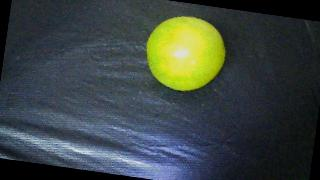LOCAL: (141, 12, 230, 97)
